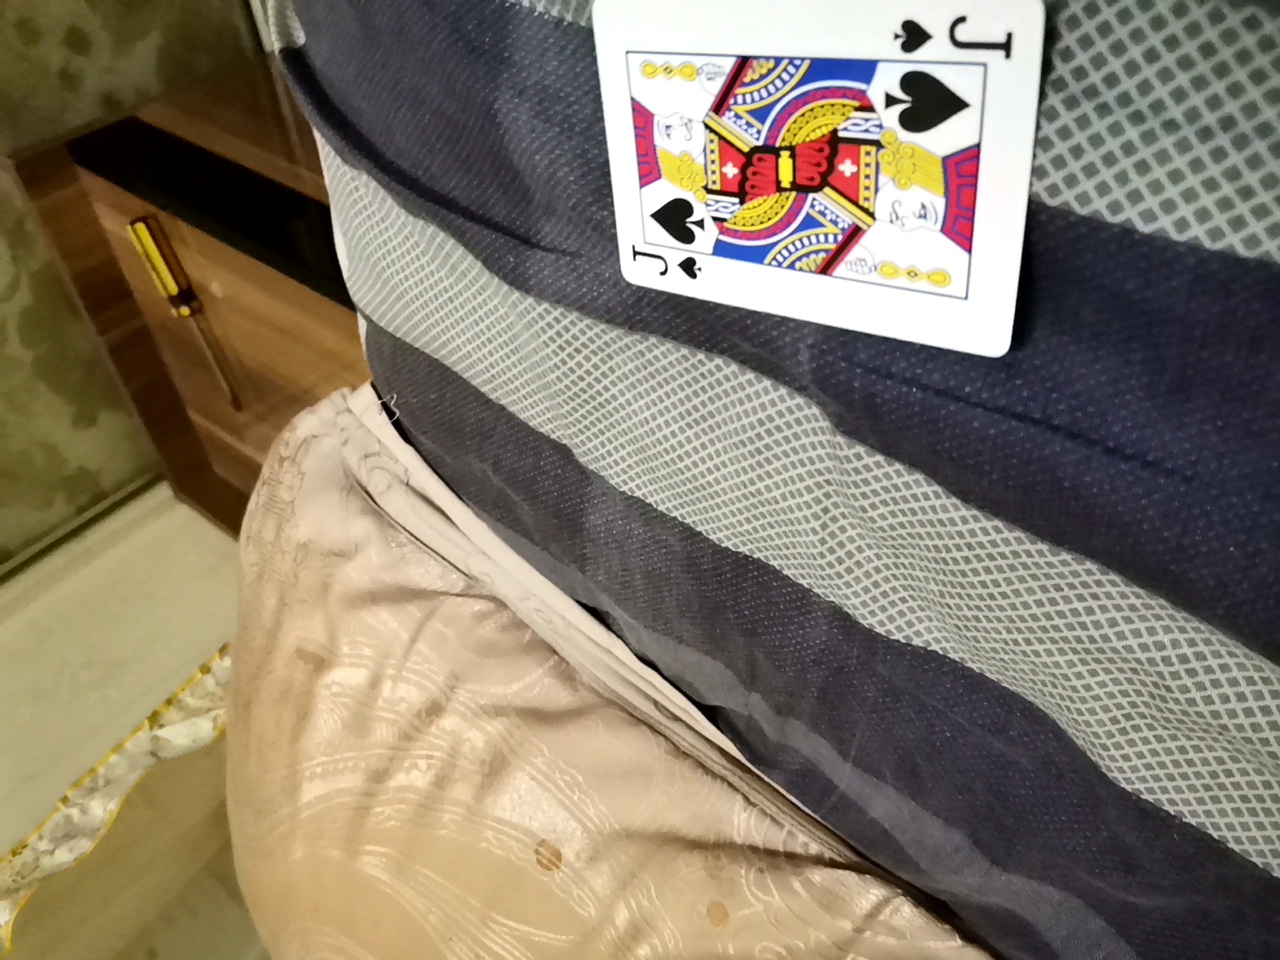ht j: (589, 5, 1065, 339)
